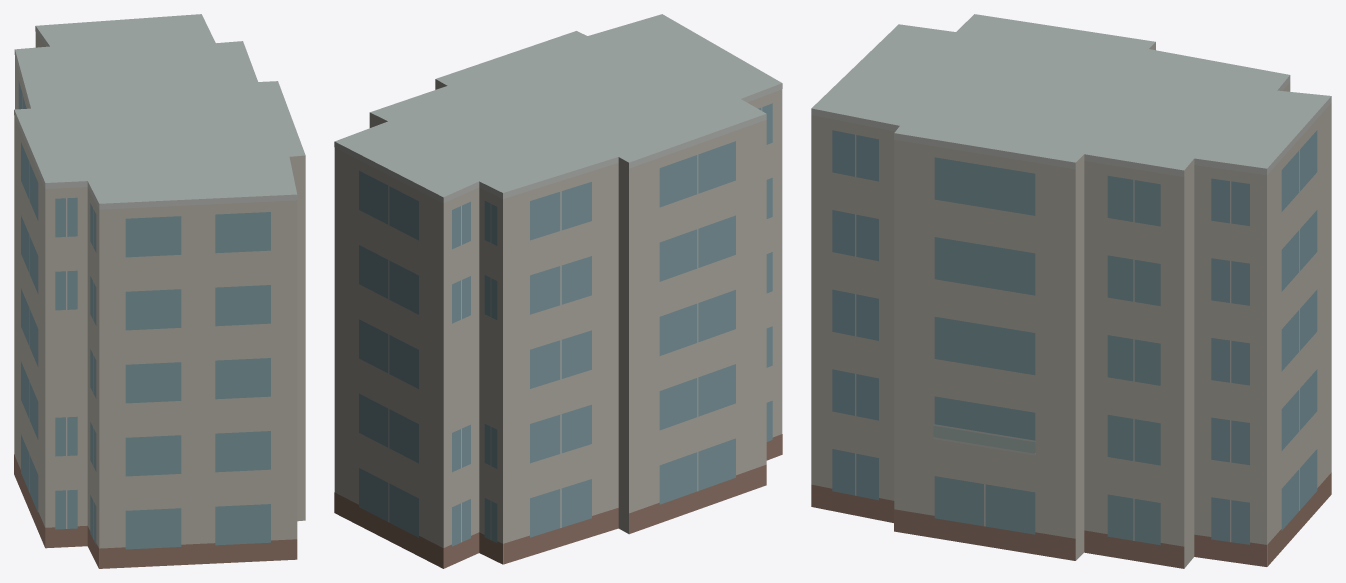
Rendered from survey-upis-32574869.glb.
3 views of the same model, side by side, from view 1: azimuth 30°, elevation 25°; view 2: azimuth 150°, elevation 25°; view 3: azimuth 270°, elevation 25° (orthographic). The views are drawn at different scales.
Parts seen in each view (by area): view 1: survey-upis-32574869.tmp; view 2: survey-upis-32574869.tmp; view 3: survey-upis-32574869.tmp.
Part boxes in pixels (bbox=[...]): survey-upis-32574869.tmp: bbox=[14, 14, 305, 568]; survey-upis-32574869.tmp: bbox=[334, 14, 782, 568]; survey-upis-32574869.tmp: bbox=[811, 14, 1331, 568].
Size of the model in its own units: 12.73 by 15.1 by 17.88.
